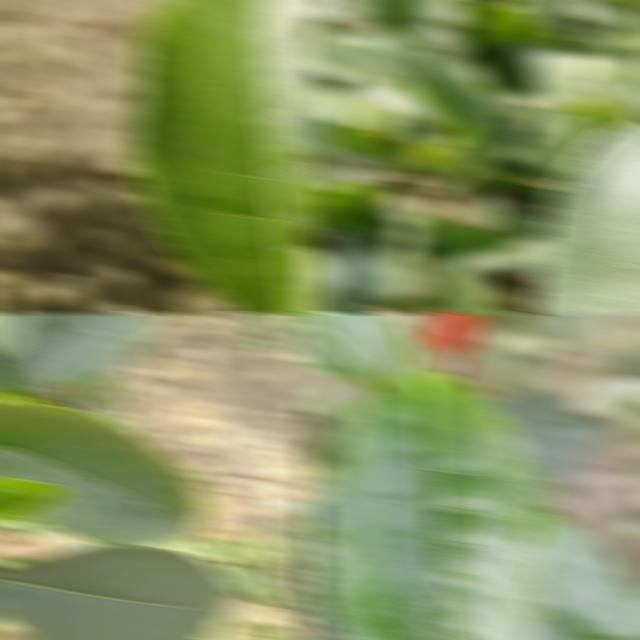Leaf: (314, 355, 551, 640), (127, 0, 314, 314), (0, 402, 209, 544), (0, 543, 242, 640), (377, 43, 515, 157), (521, 514, 640, 640), (485, 387, 610, 500), (0, 312, 166, 390), (325, 234, 398, 314), (433, 270, 507, 314), (0, 476, 70, 519), (368, 0, 426, 36), (300, 114, 349, 152), (24, 383, 89, 410)
